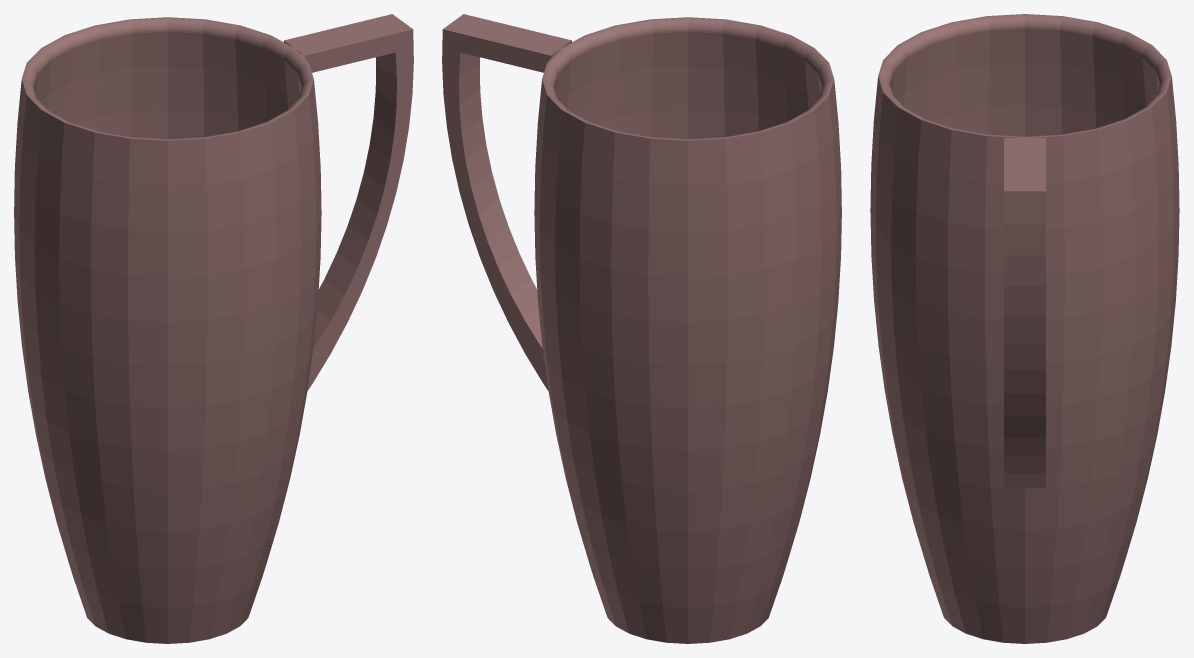
The picture shows the model from 3 angles, left to right: view 1: azimuth 30°, elevation 25°; view 2: azimuth 150°, elevation 25°; view 3: azimuth 270°, elevation 25°; orthographic projection.
Visible parts, largest first — view 1: mesh1_mesh1-geometry; view 2: mesh1_mesh1-geometry; view 3: mesh1_mesh1-geometry.
Boxes of the visible parts, x1,y1,x2,y2 form: mesh1_mesh1-geometry: (14,14,413,643); mesh1_mesh1-geometry: (442,14,841,643); mesh1_mesh1-geometry: (870,14,1179,643).
Bounding box in the file's own units: 0.5419 × 0.7438 × 0.3913.
